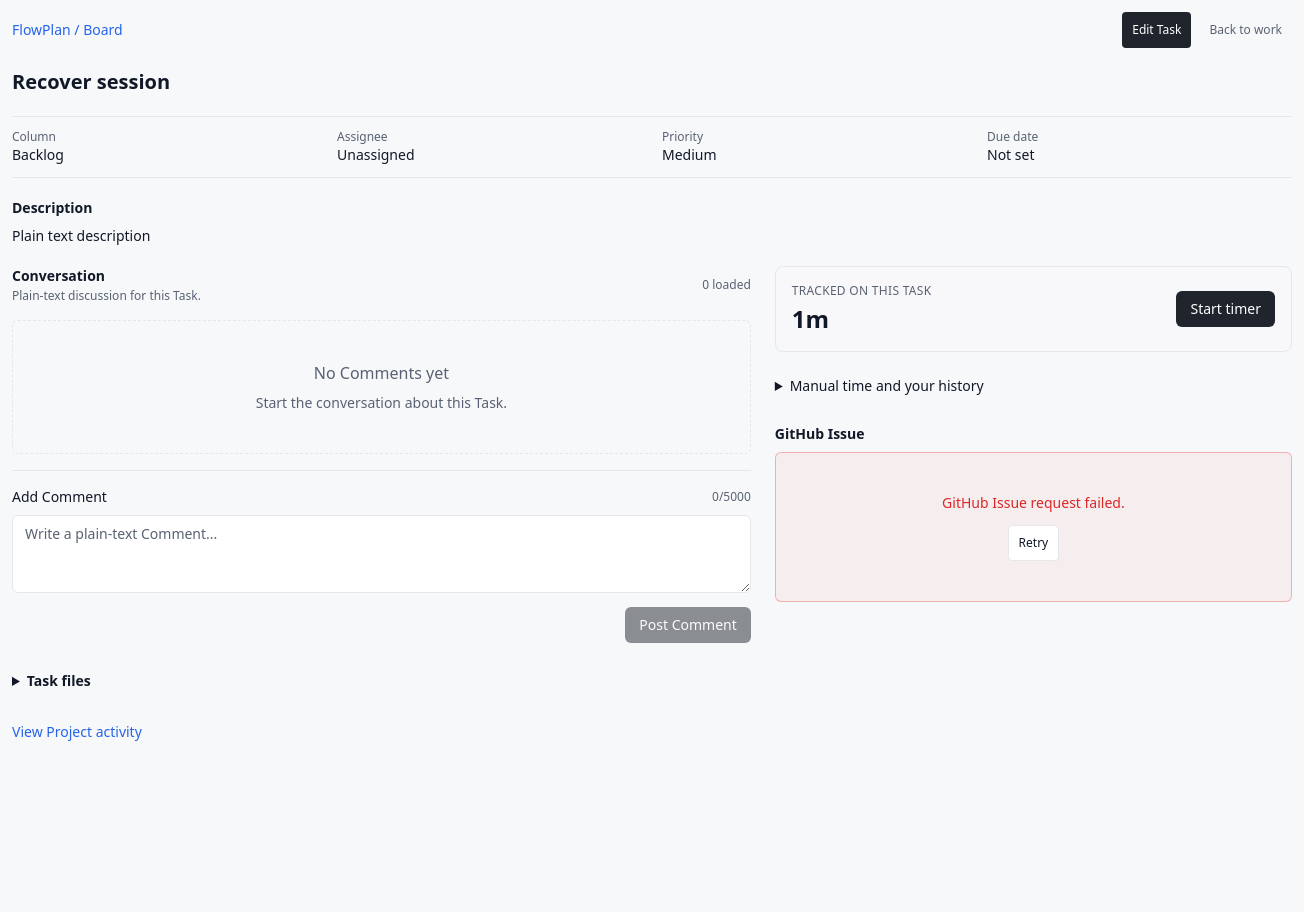
Test case: timer failures remain visible outside the collapsed manual-time disclosure
Click the button "Start timer" at (1226, 309), box x1=1176 y1=291 x2=1275 y2=327
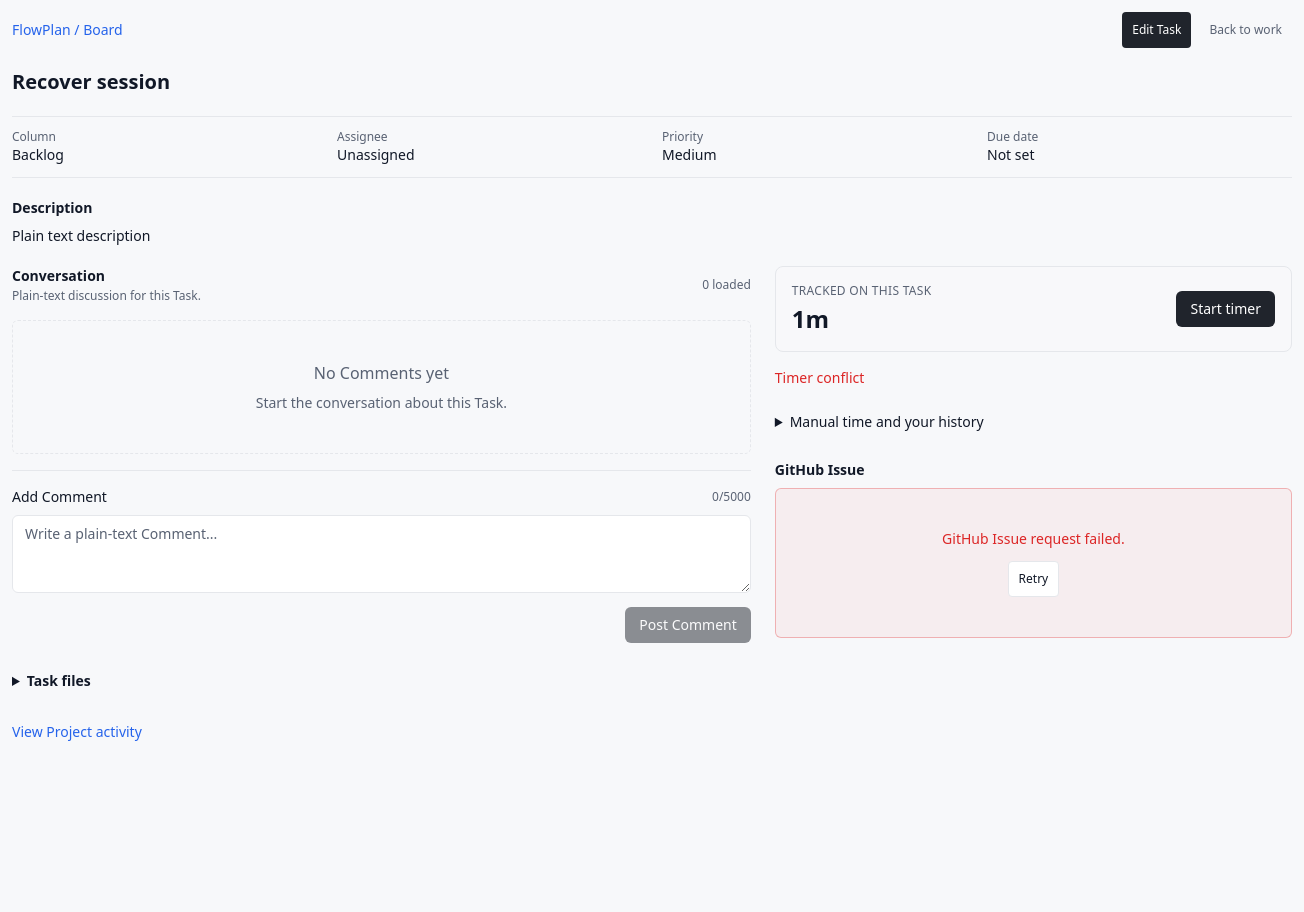
Result: the message reads "Timer conflict" at x1=775 y1=368 x2=864 y2=387
